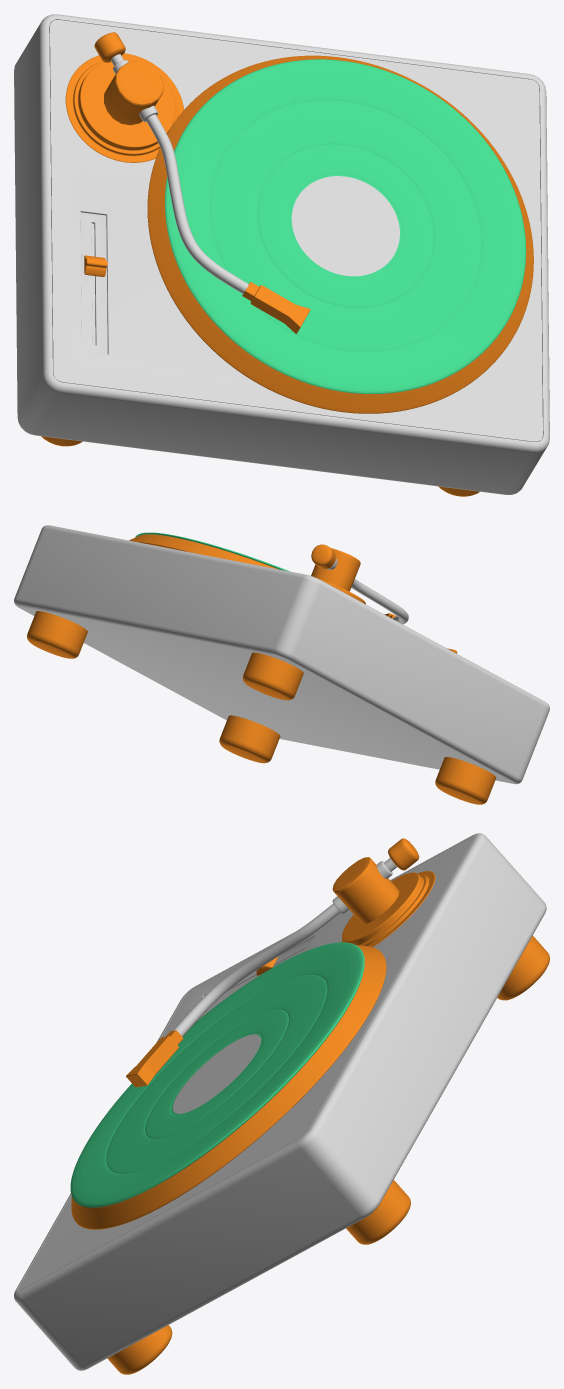
The model's file is turn-table-3d-icon-1162418682854.glb.
The picture shows the model from 3 angles, top to bottom: view 1: azimuth 30°, elevation 25°; view 2: azimuth 150°, elevation 25°; view 3: azimuth 270°, elevation 25°; orthographic projection. The views are drawn at different scales.
Visible parts, largest first — view 1: Body, Disc, Legs & Arm; view 2: Body, Legs & Arm, Disc; view 3: Body, Disc, Legs & Arm.
Part boxes in pixels (<box>): Body: <box>14,14,549,494</box>; Disc: <box>165,59,526,394</box>; Legs & Arm: <box>41,32,533,496</box>; Body: <box>14,525,549,784</box>; Legs & Arm: <box>27,534,496,804</box>; Disc: <box>135,532,289,571</box>; Body: <box>14,833,546,1370</box>; Disc: <box>70,942,364,1207</box>; Legs & Arm: <box>71,838,549,1374</box>.
Size of the model in its own units: 3.44 by 2.44 by 2.82.
